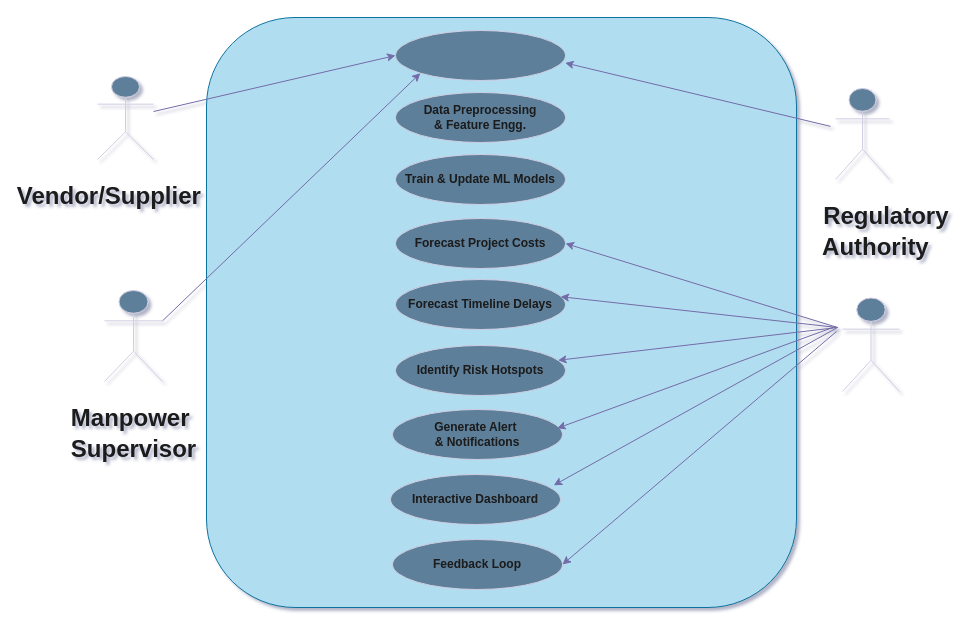
The diagram is 978 pixels wide and 631 high, and some of its shapes have lost their labels. Each missing label, with the box of its shape:
Ingest Data: (394, 30, 566, 80)
Project Manager: (842, 297, 900, 392)
